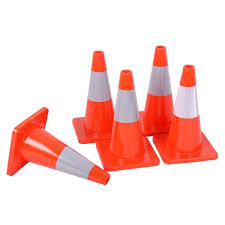cones: (5, 108, 110, 186), (97, 71, 159, 171), (160, 66, 219, 165), (73, 54, 113, 143), (138, 47, 173, 134)
